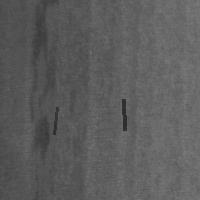inclusion: (22, 1, 58, 172), (52, 105, 59, 136), (121, 97, 126, 132)
